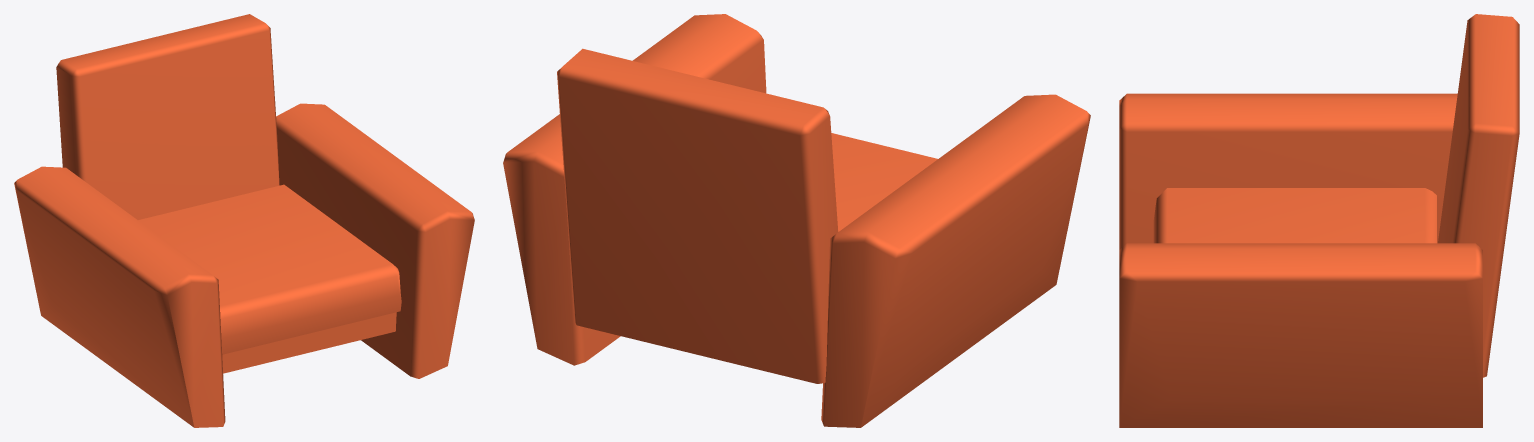
The model's file is armchair_004.glb.
The picture shows the model from 3 angles, left to right: view 1: azimuth 30°, elevation 25°; view 2: azimuth 150°, elevation 25°; view 3: azimuth 270°, elevation 25°; orthographic projection. The views are drawn at different scales.
Parts seen in each view (by area): view 1: armchair_004; view 2: armchair_004; view 3: armchair_004.
Boxes of the visible parts, x1,y1,x2,y2 form: armchair_004: [14, 14, 474, 427]; armchair_004: [503, 14, 1090, 427]; armchair_004: [1119, 14, 1519, 427].
Bounding box in the file's own units: 1.03 × 0.7669 × 0.9491.
Materials: 1 (1 with a texture image).
